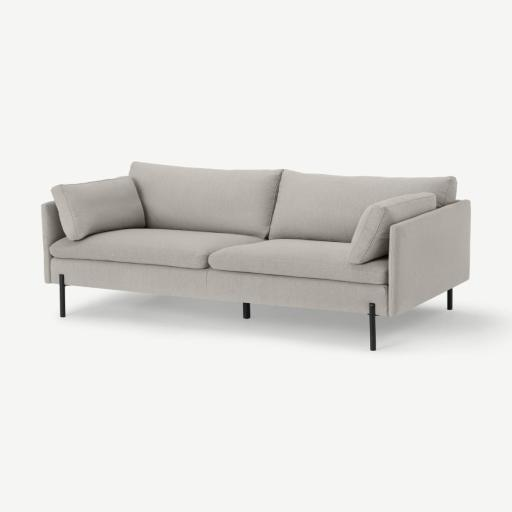back_cushion: (129, 162, 456, 242)
base: (51, 258, 387, 315)
left_arm: (387, 200, 470, 316)
legs: (368, 303, 377, 351), (59, 274, 65, 317), (242, 302, 250, 319), (448, 290, 452, 309)
right_arm: (41, 201, 65, 283)
seat_cushion: (51, 229, 387, 283)
two-seater: (0, 0, 511, 512)
